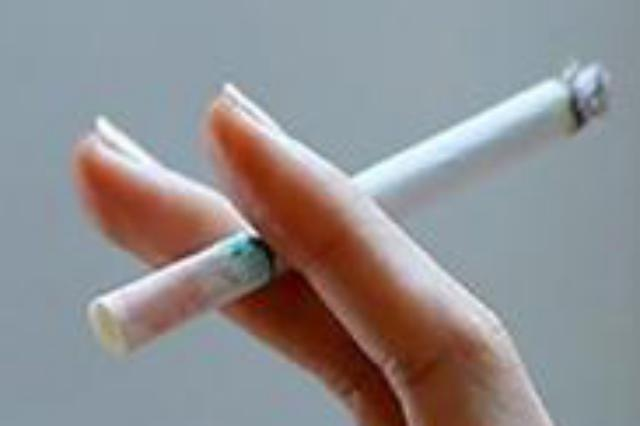Cigarette: (82, 60, 614, 356)
